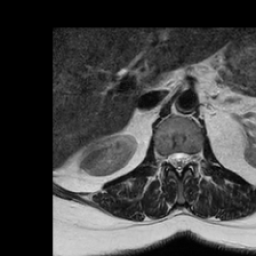CCS_normal: (174, 144, 182, 182)
LFS_normal: (189, 146, 198, 169)
LLS_normal: (182, 144, 189, 171)
RFS_normal: (160, 146, 166, 169)
RLS_normal: (166, 146, 174, 170)
